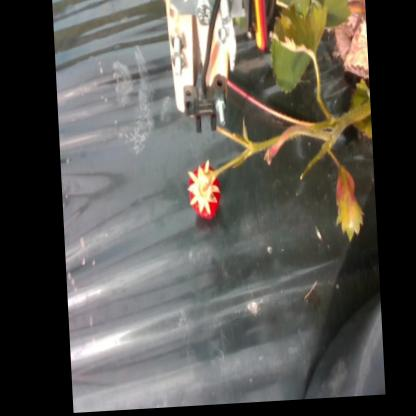ripe: (182, 158, 224, 227)
